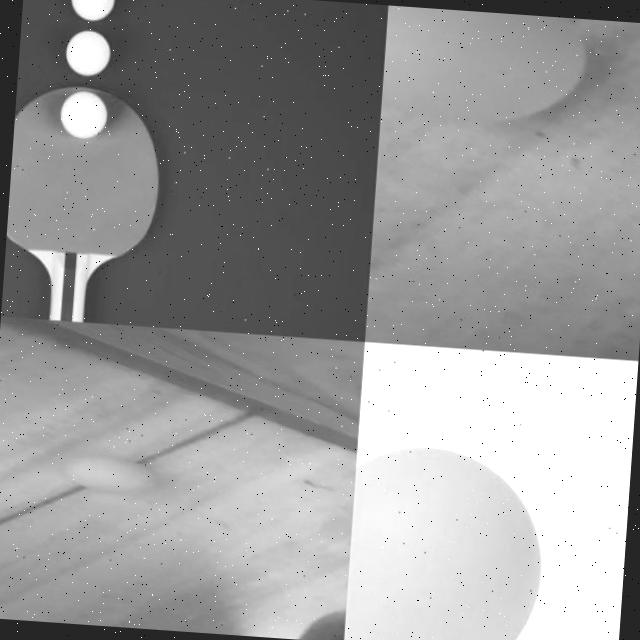ping-pong-ball: (343, 439, 549, 640), (380, 4, 584, 128), (67, 453, 152, 492), (60, 90, 108, 138), (66, 28, 110, 76), (69, 0, 115, 20)
